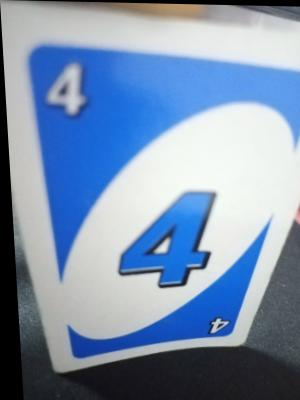blue: (23, 37, 244, 344)
num_4: (37, 53, 99, 121), (199, 305, 233, 339)
